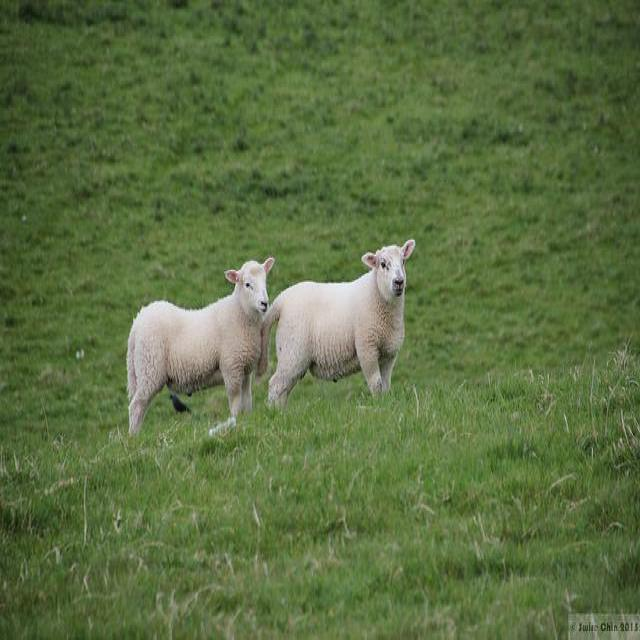Sheep: (126, 258, 275, 439), (255, 240, 416, 406)
